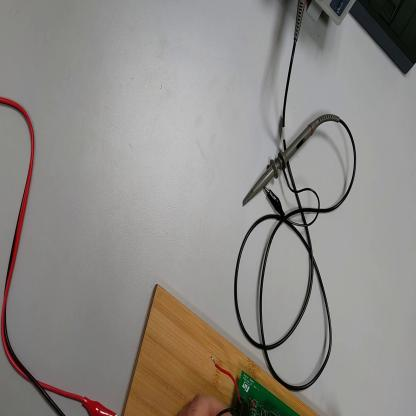hand: (177, 394, 232, 414)
high voltage board: (211, 357, 299, 416)
oscilloscope: (305, 1, 357, 28)
oscilloscope probe tip: (245, 122, 323, 207)
working area: (122, 283, 319, 415)
